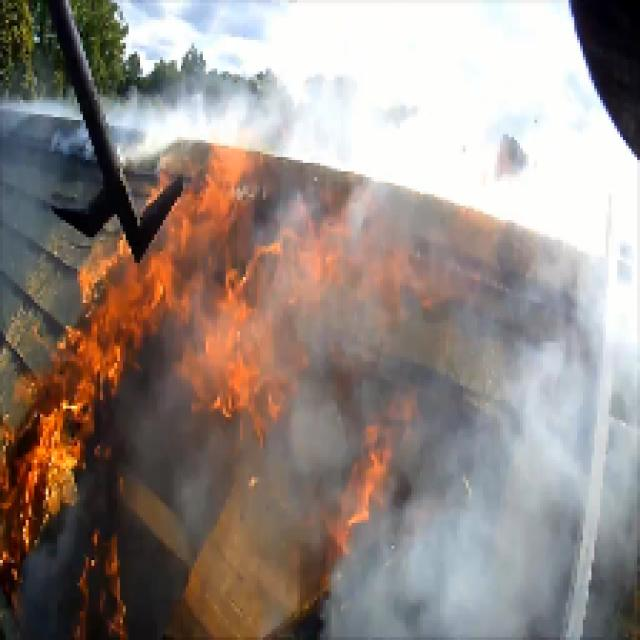fire: (30, 300, 110, 502), (114, 255, 163, 340)
smoke: (448, 310, 602, 630), (355, 456, 430, 634)
